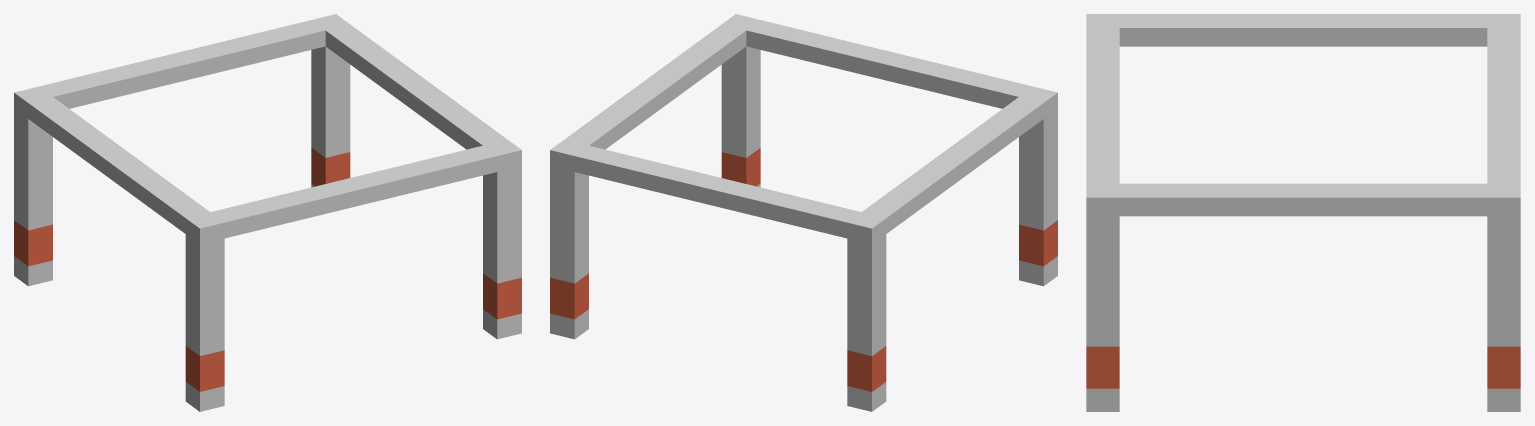
Rendered from frameHigh.obj.
3 renders of one model, left to right at view 1: azimuth 30°, elevation 25°; view 2: azimuth 150°, elevation 25°; view 3: azimuth 270°, elevation 25°, orthographic. The views are drawn at different scales.
Visible parts, largest first — view 1: frameHigh; view 2: frameHigh; view 3: frameHigh.
Boxes of the visible parts, x1,y1,x2,y2 form: frameHigh: [14, 14, 521, 411]; frameHigh: [550, 14, 1057, 411]; frameHigh: [1086, 14, 1520, 411].
Size of the model in its own units: 8.45 by 4.6 by 8.45.
